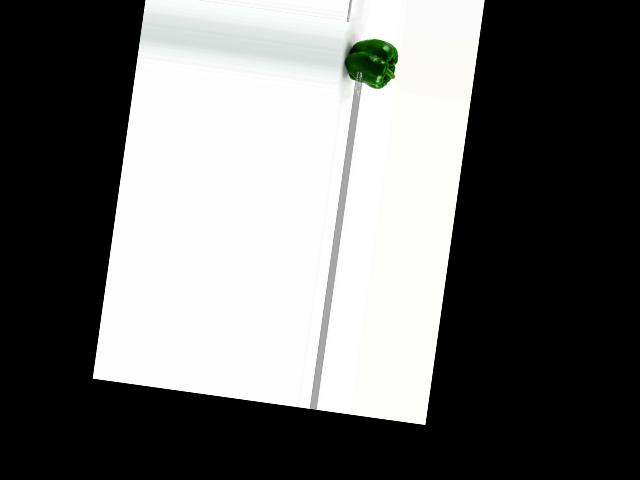bell_pepper: (340, 33, 403, 90)
